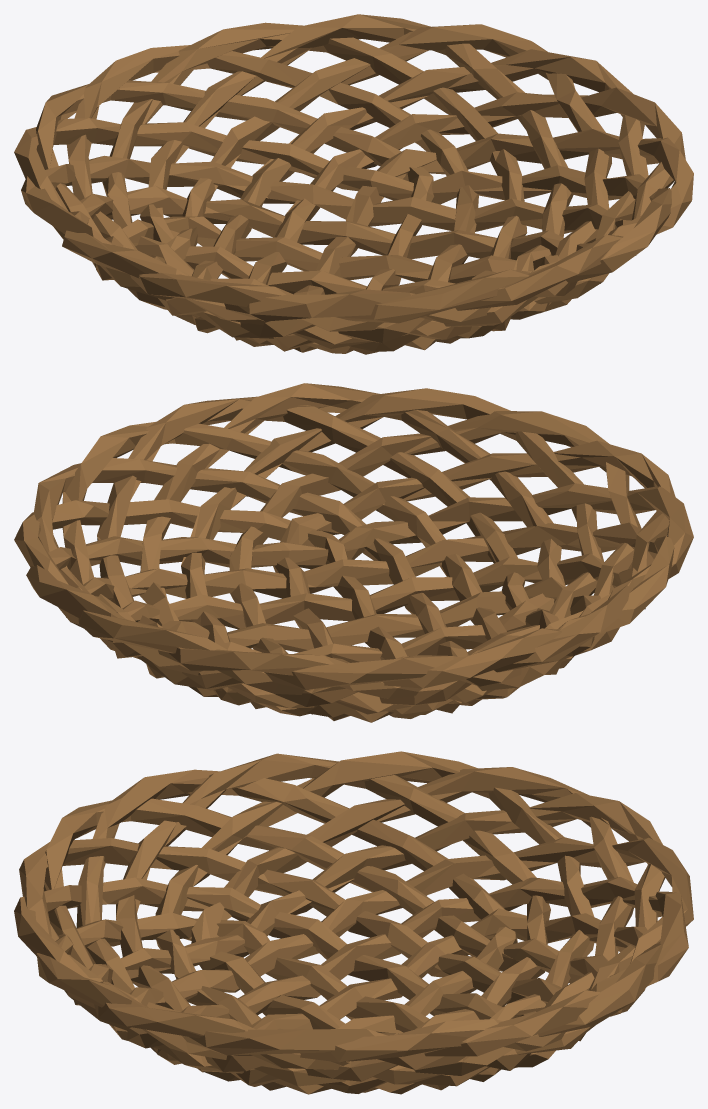
File: 籃子_塗色完成.fbx
The picture shows the model from 3 angles, top to bottom: view 1: azimuth 30°, elevation 25°; view 2: azimuth 150°, elevation 25°; view 3: azimuth 270°, elevation 25°; orthographic projection. The views are drawn at different scales.
Parts seen in each view (by area): view 1: Celtic.005; view 2: Celtic.005; view 3: Celtic.005.
Part boxes in pixels (bbox=[...]): Celtic.005: bbox=[14, 14, 693, 354]; Celtic.005: bbox=[14, 383, 693, 722]; Celtic.005: bbox=[14, 751, 693, 1094].
Size of the model in its own units: 139 by 33.23 by 139.
